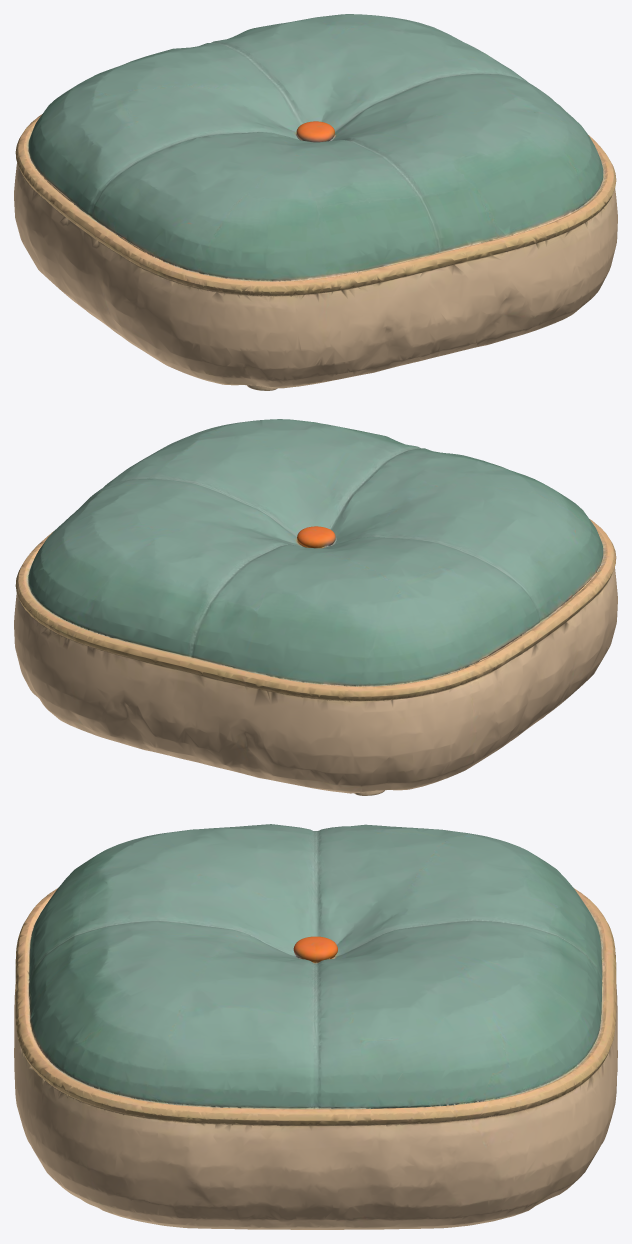
Rendered from majlis-cushion-variant-05-rounded-square.glb.
3 renders of one model, top to bottom at view 1: azimuth 30°, elevation 25°; view 2: azimuth 150°, elevation 25°; view 3: azimuth 270°, elevation 25°, orthographic. The views are drawn at different scales.
Visible parts, largest first — view 1: mesh_node; view 2: mesh_node; view 3: mesh_node.
Part boxes in pixels (box(x1,y1,x2,y2)): mesh_node: box(14, 14, 617, 390); mesh_node: box(14, 419, 617, 795); mesh_node: box(14, 824, 617, 1229).
Size of the model in its own units: 1.9 by 0.7903 by 1.82.
1 material, 1 textured.
